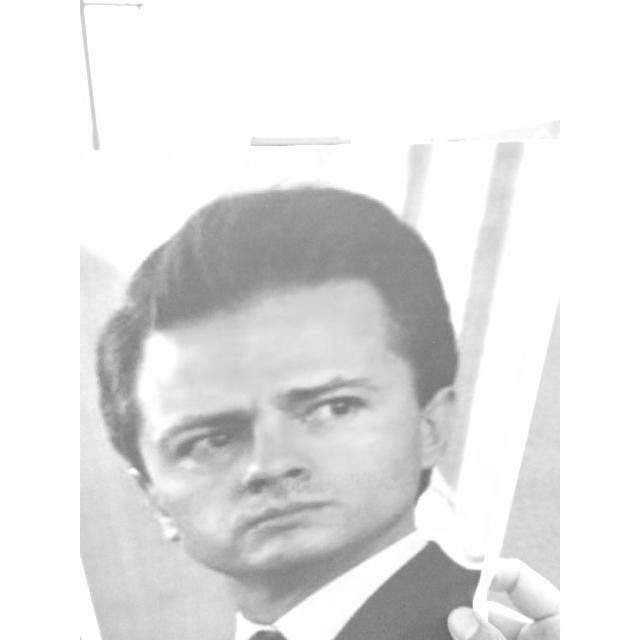fake: (82, 133, 560, 639)
